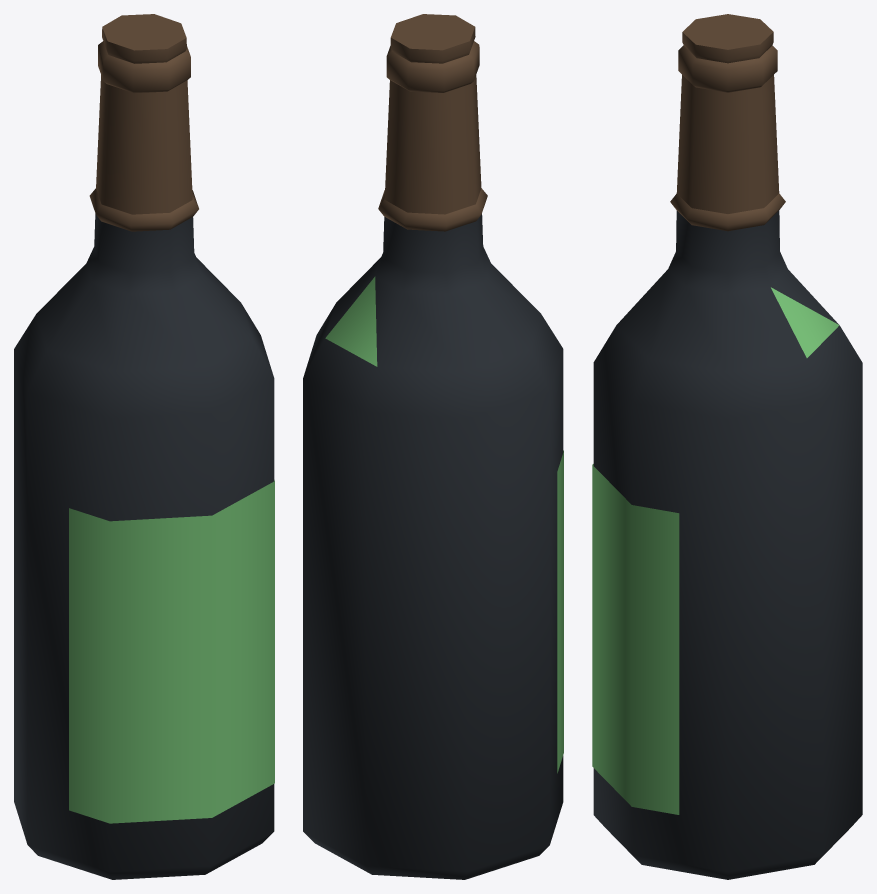
File: ARLFPTJ0401.FBX
3 views of the same model, side by side, from view 1: azimuth 30°, elevation 25°; view 2: azimuth 150°, elevation 25°; view 3: azimuth 270°, elevation 25° (orthographic).
Visible parts, largest first — view 1: ARLFPTJ0401; view 2: ARLFPTJ0401; view 3: ARLFPTJ0401.
Part boxes in pixels (x1,y1,x2,y2): ARLFPTJ0401: (14, 14, 274, 879); ARLFPTJ0401: (303, 14, 563, 879); ARLFPTJ0401: (592, 14, 862, 879).
Size of the model in its own units: 9.17 by 9.21 by 29.96.
